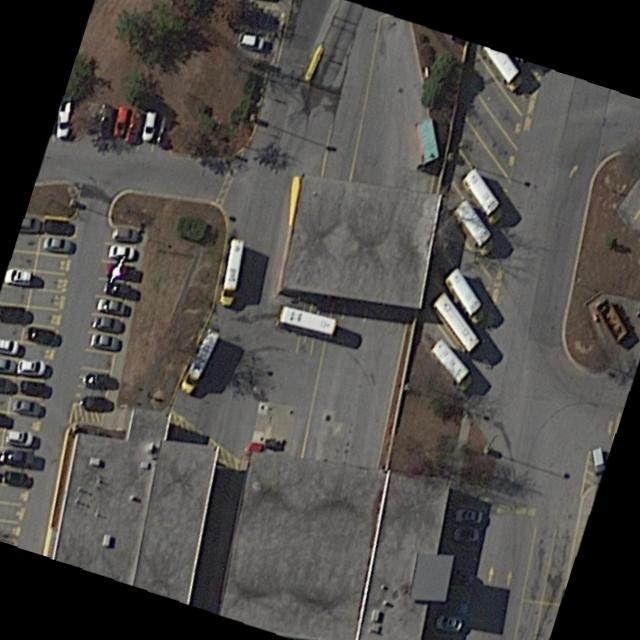large-vehicle: (425, 287, 484, 359), (177, 325, 221, 395), (449, 197, 495, 263), (440, 268, 486, 328), (425, 336, 473, 393), (458, 165, 501, 228), (275, 305, 337, 342), (216, 238, 244, 308)
small-vehicle: (237, 2, 285, 36), (121, 100, 145, 150), (153, 110, 179, 152), (75, 392, 116, 417), (22, 325, 63, 349), (439, 545, 476, 569), (37, 233, 72, 258), (430, 610, 463, 635), (108, 103, 129, 142), (77, 371, 113, 393), (12, 358, 49, 379), (9, 396, 42, 419), (108, 222, 139, 246), (0, 446, 32, 469), (86, 331, 118, 354), (91, 102, 112, 137), (16, 380, 51, 401), (93, 297, 125, 319), (139, 109, 157, 148), (450, 507, 484, 527), (54, 99, 71, 139), (236, 30, 264, 54), (2, 269, 32, 291), (0, 468, 30, 490), (88, 315, 121, 335), (100, 280, 133, 300), (104, 262, 135, 283), (444, 568, 476, 588), (0, 301, 25, 326), (448, 526, 479, 546), (42, 217, 74, 236), (3, 430, 33, 449), (0, 335, 19, 360), (106, 245, 135, 261), (244, 0, 281, 9), (0, 358, 14, 377), (0, 410, 10, 430), (0, 378, 11, 394)
